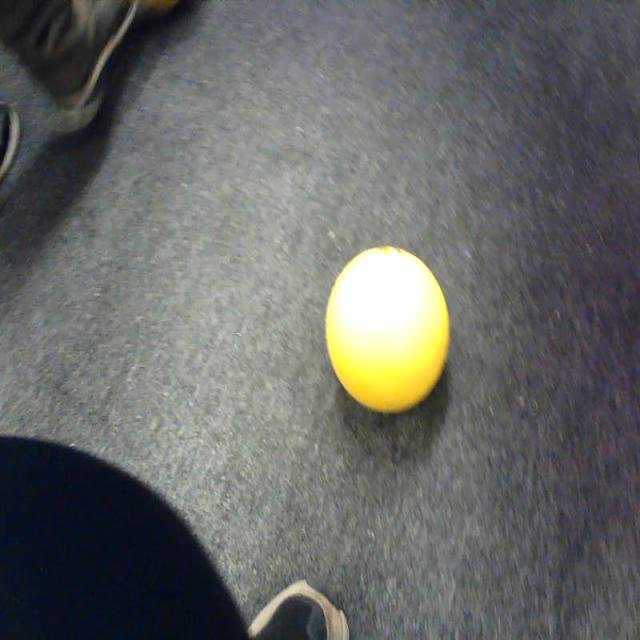Fuel: (326, 246, 449, 414)
